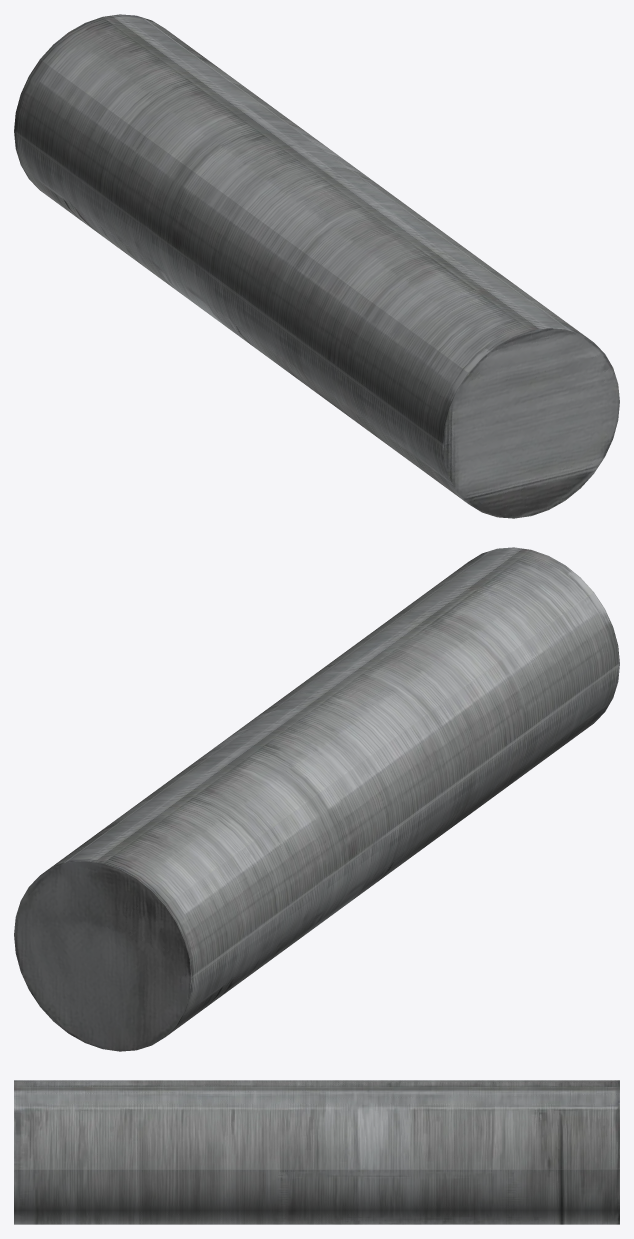
Rendered from body__rear_corner.glb.
3 views of the same model, one above another, from view 1: azimuth 30°, elevation 25°; view 2: azimuth 150°, elevation 25°; view 3: azimuth 270°, elevation 25° (orthographic). The views are drawn at different scales.
Parts seen in each view (by area): view 1: geometry_0; view 2: geometry_0; view 3: geometry_0.
Boxes of the visible parts, x1,y1,x2,y2 form: geometry_0: (14,14,619,518); geometry_0: (14,547,619,1051); geometry_0: (14,1080,619,1224).
Bounding box in the file's own units: 0.08 × 0.08 × 0.335.
1 material, 1 textured.
